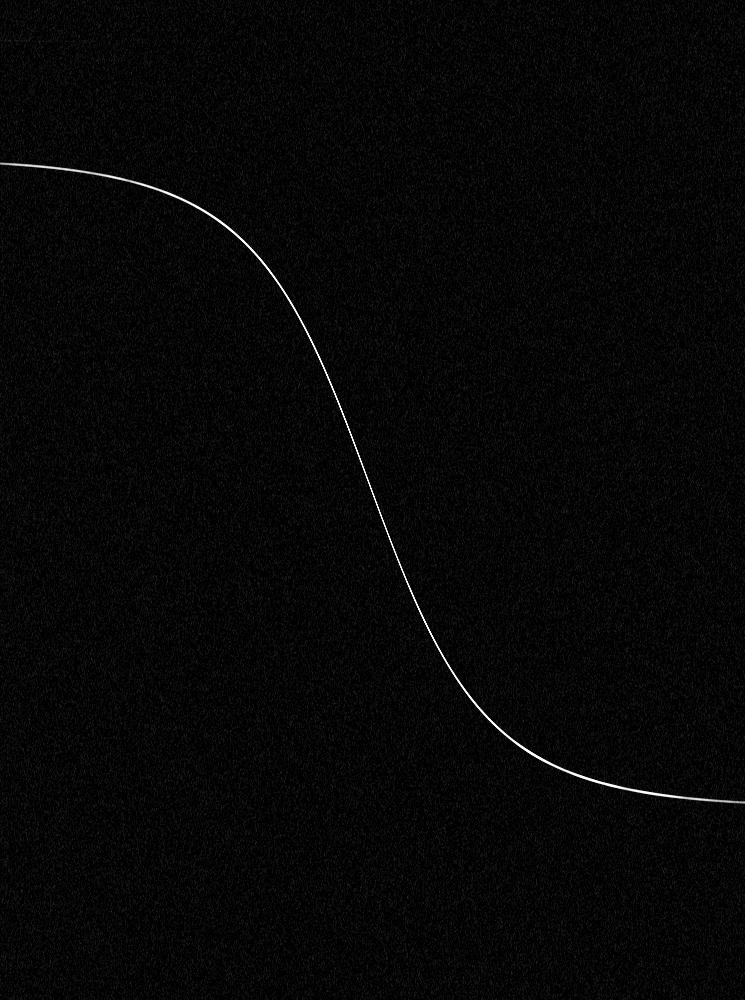signal: (0, 0, 744, 999)
